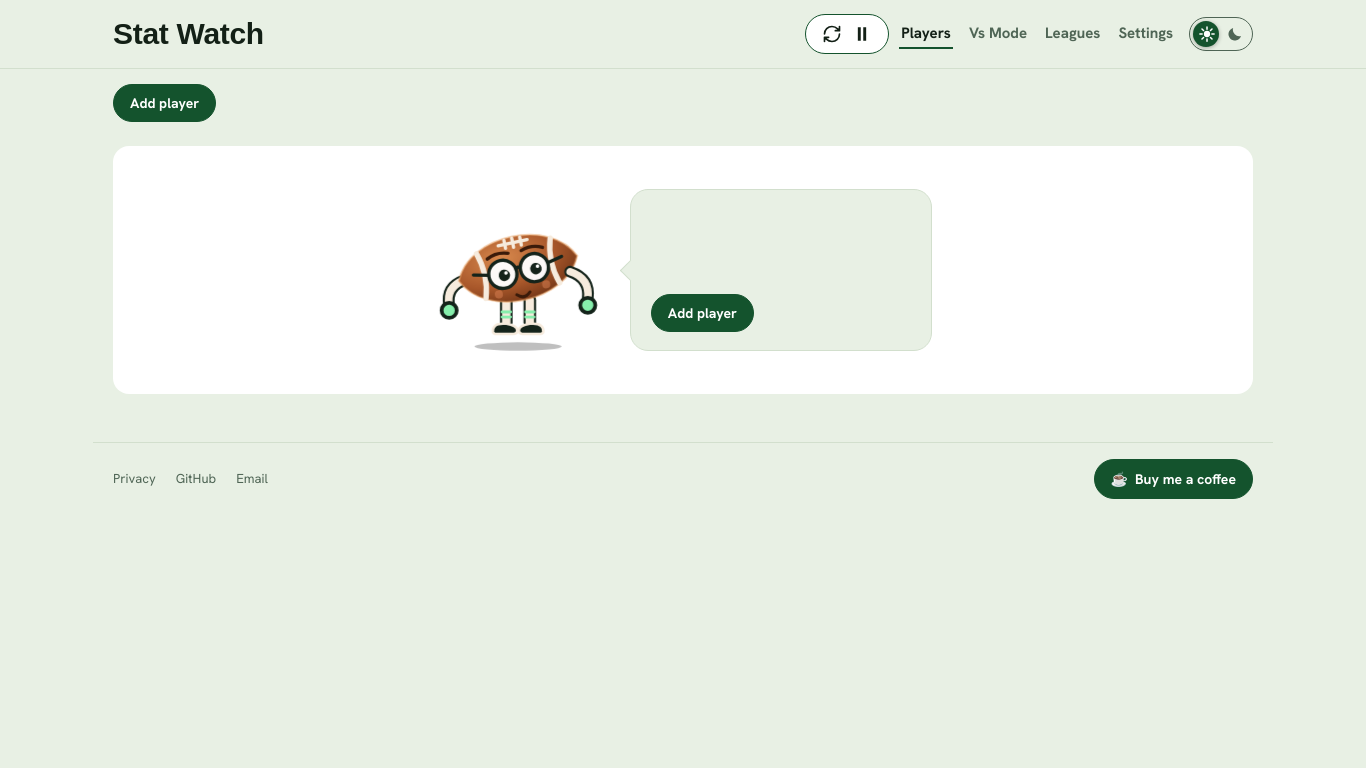
add dialog › says team defenses are unavailable, not that search is down, when only the team list fails
Click the 1st button "Add player": {"x": 165, "y": 103} [113,84,216,122]
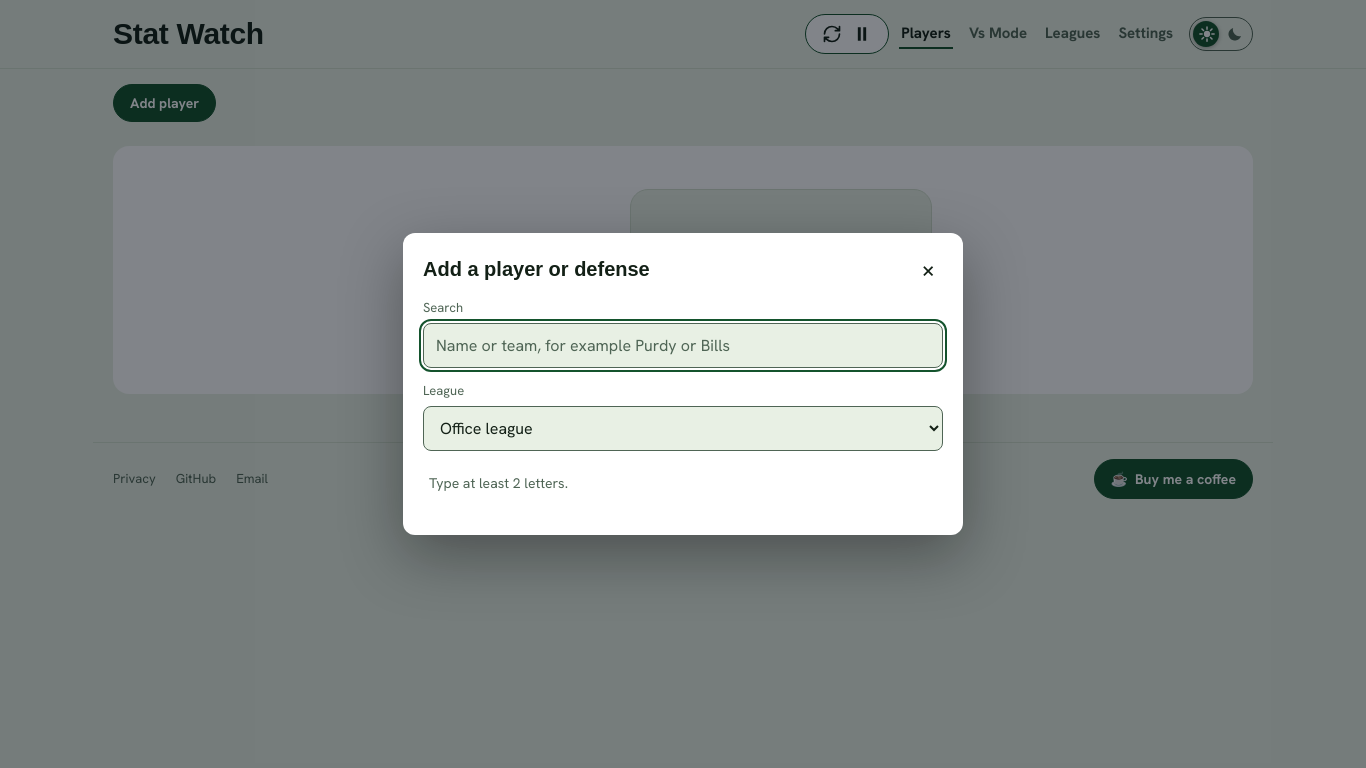
In the search field labelled "Search": {"x": 683, "y": 345} [423,323,943,368], type "bills"
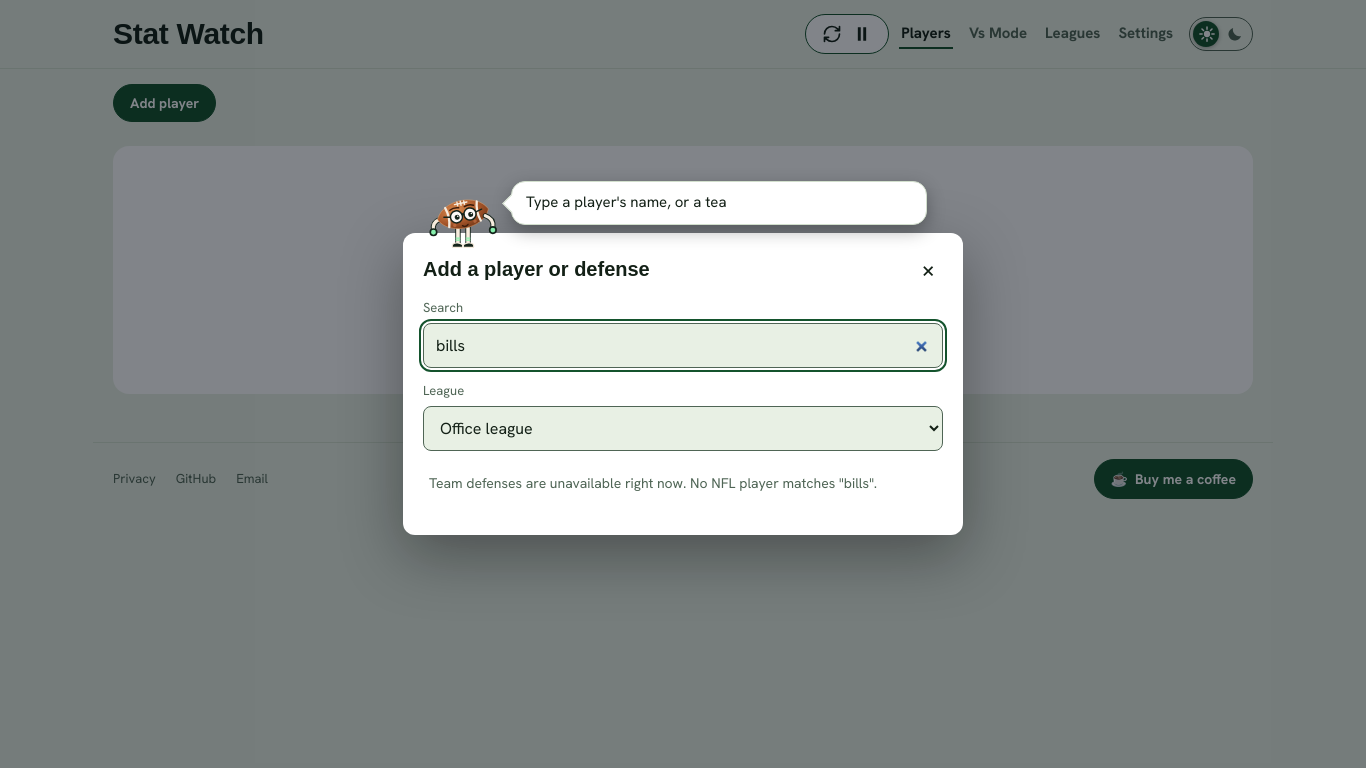
Expected: the text "Team defenses are unavailable right now. No NFL player matches \"bills\"." is shown, [429,474,877,492]
